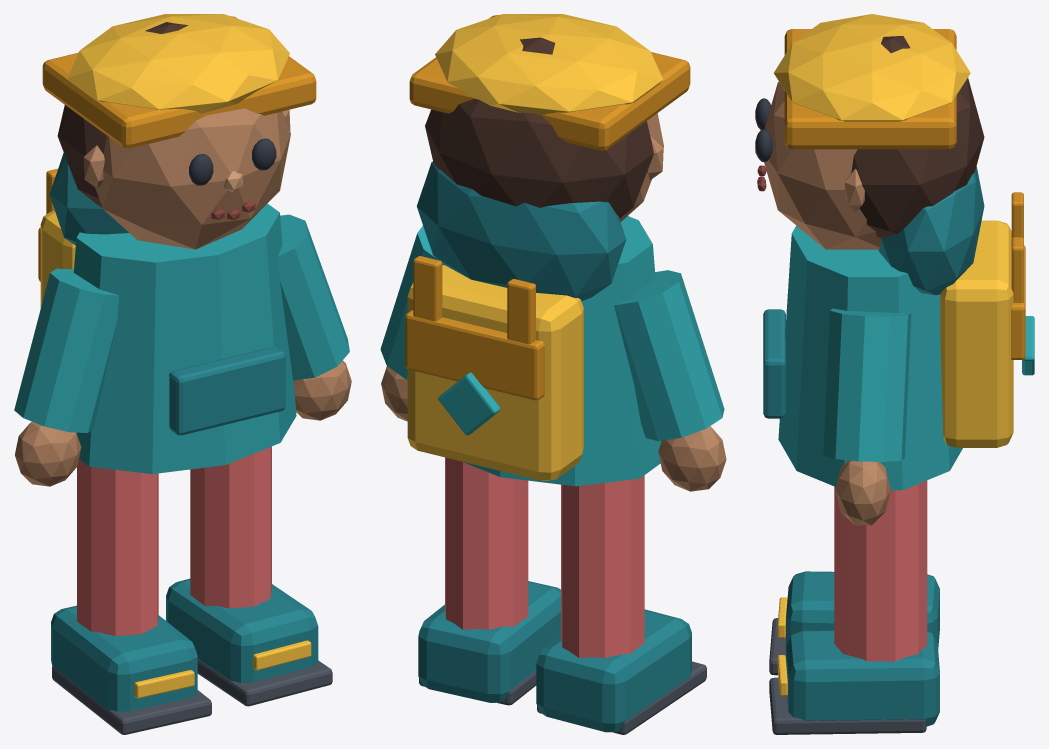
File: player.glb
3 views of the same model, side by side, from view 1: azimuth 30°, elevation 25°; view 2: azimuth 150°, elevation 25°; view 3: azimuth 270°, elevation 25° (orthographic). The views are drawn at different scales.
Parts seen in each view (by area): view 1: player_hoodie, player_head, player_beanie_crown, player_leg_L, player_leg_R, player_sleeve_L, player_shoe_L, player_shoe_R, player_beanie_band, player_hoodie_pocket, player_sleeve_R, player_hand_L (+11 smaller); view 2: player_backpack, player_hood, player_hair_back, player_beanie_crown, player_leg_L, player_leg_R, player_hoodie, player_sleeve_L, player_shoe_L, player_shoe_R, player_pack_flap, player_beanie_band (+8 smaller); view 3: player_hoodie, player_beanie_crown, player_leg_R, player_backpack, player_sleeve_R, player_shoe_R, player_hair_back, player_head, player_hood, player_beanie_band, player_shoe_L, player_hand_R (+9 smaller).
Part boxes in pixels (bbox=[...]): player_hoodie: bbox=[73, 203, 296, 473]; player_head: bbox=[95, 108, 290, 249]; player_beanie_crown: bbox=[67, 14, 289, 113]; player_leg_L: bbox=[77, 459, 158, 635]; player_leg_R: bbox=[190, 446, 271, 608]; player_sleeve_L: bbox=[14, 268, 118, 432]; player_shoe_L: bbox=[51, 605, 197, 711]; player_shoe_R: bbox=[166, 578, 318, 683]; player_beanie_band: bbox=[42, 16, 316, 148]; player_hoodie_pocket: bbox=[169, 347, 285, 435]; player_sleeve_R: bbox=[278, 214, 349, 380]; player_hand_L: bbox=[15, 421, 81, 486]; player_backpack: bbox=[407, 265, 583, 480]; player_hood: bbox=[416, 161, 626, 301]; player_hair_back: bbox=[425, 37, 653, 218]; player_beanie_crown: bbox=[435, 14, 663, 115]; player_leg_L: bbox=[561, 475, 644, 658]; player_leg_R: bbox=[445, 457, 528, 629]; player_hoodie: bbox=[462, 216, 661, 486]; player_sleeve_L: bbox=[614, 270, 724, 441]; player_shoe_L: bbox=[536, 609, 691, 732]; player_shoe_R: bbox=[418, 581, 560, 702]; player_pack_flap: bbox=[405, 310, 544, 400]; player_beanie_band: bbox=[409, 15, 690, 150]; player_hoodie: bbox=[778, 225, 962, 490]; player_beanie_crown: bbox=[774, 14, 970, 121]; player_leg_R: bbox=[834, 480, 927, 661]; player_backpack: bbox=[940, 220, 1013, 447]; player_sleeve_R: bbox=[823, 308, 911, 461]; player_shoe_R: bbox=[786, 630, 939, 726]; player_hair_back: bbox=[851, 36, 984, 237]; player_head: bbox=[764, 82, 881, 249]; player_hood: bbox=[878, 166, 984, 295]; player_beanie_band: bbox=[784, 29, 956, 149]; player_shoe_L: bbox=[786, 571, 939, 649]; player_hand_R: bbox=[835, 460, 890, 525].
Size of the model in its own units: 0.7531 by 1.41 by 0.5529.
